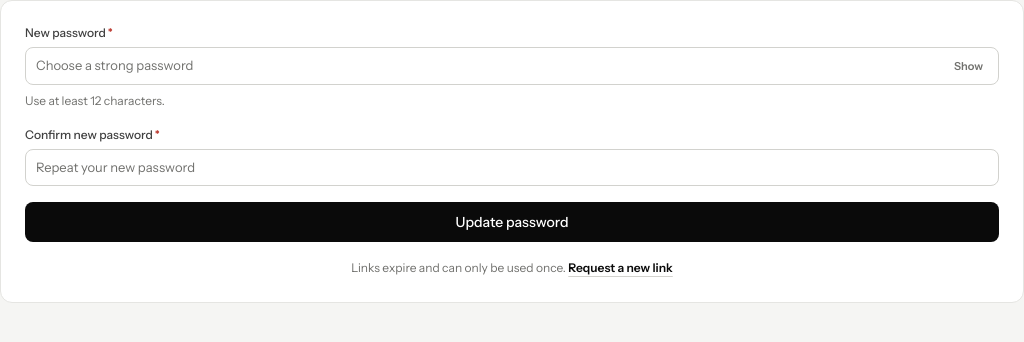
Test case: ResetPasswordForm › requires matching passwords before submitting
Type "a-brand-new-password" into the password field labelled "New password*" at coordinates (512, 66), box [25,47,999,84]
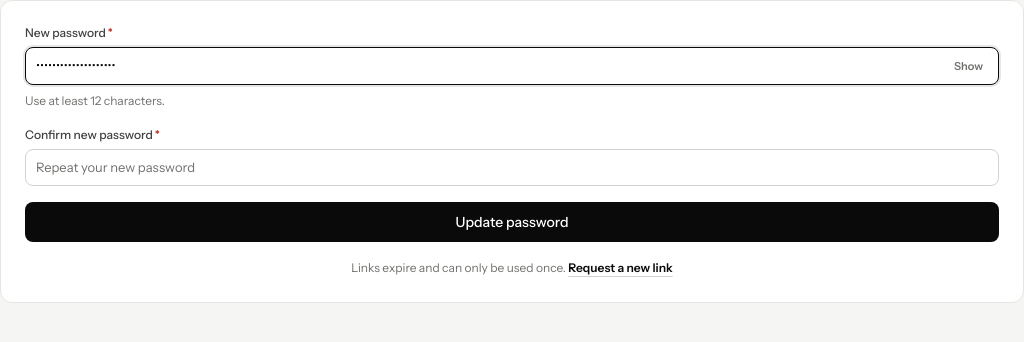
Type "a-different-password" into the password field labelled "Confirm new password*" at coordinates (512, 167), box [25,148,999,186]
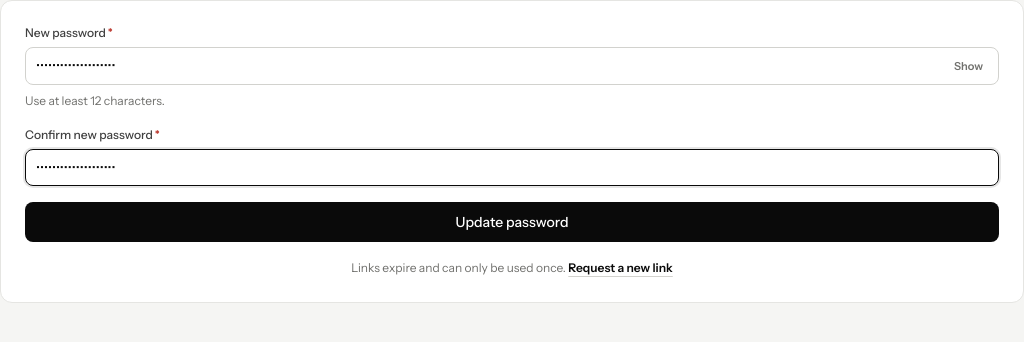
Click the button "Update password" at coordinates (512, 222), box [25,202,999,242]
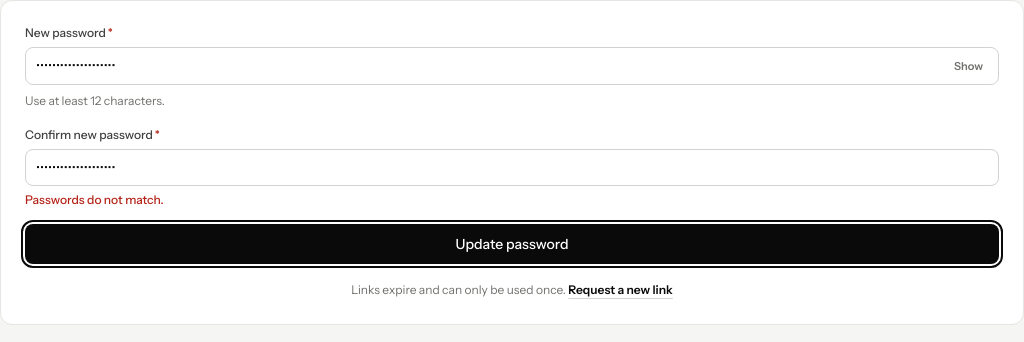
Expected: the text "Passwords do not match." is shown, [25,192,164,207]
